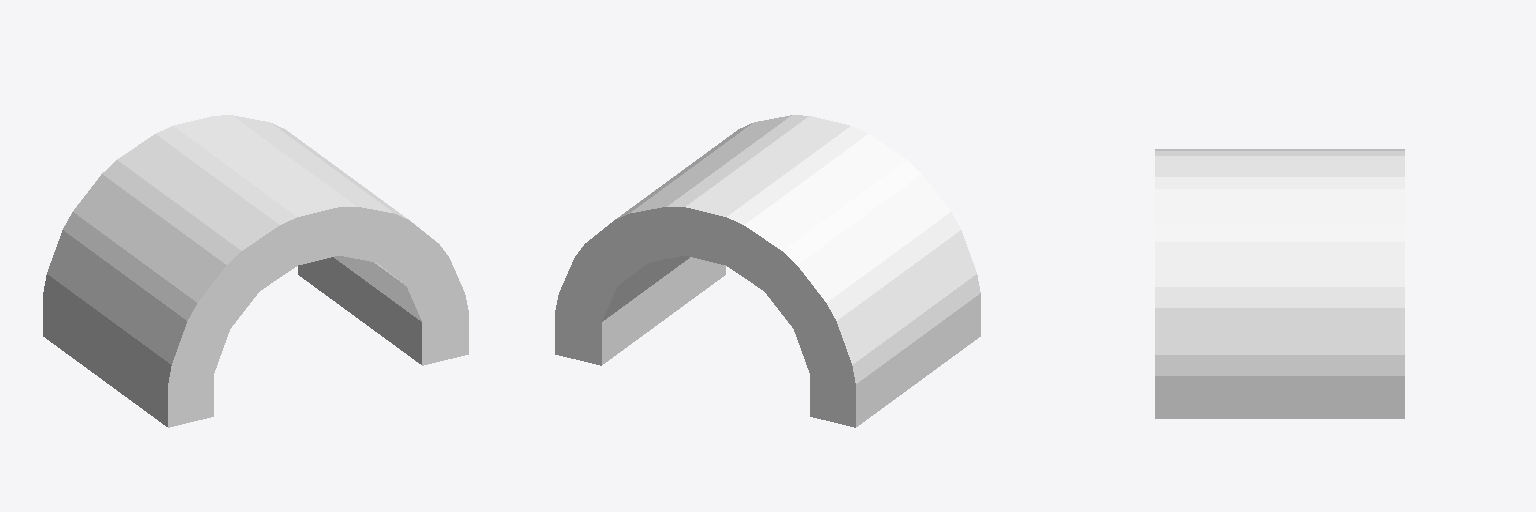
The model's file is smooth_round_arch_1.obj.
3 views of the same model, side by side, from view 1: azimuth 30°, elevation 25°; view 2: azimuth 150°, elevation 25°; view 3: azimuth 270°, elevation 25° (orthographic).
Parts seen in each view (by area): view 1: cube.002; view 2: cube.002; view 3: cube.002.
Boxes of the visible parts, x1=… form: cube.002: x1=43, y1=115, x2=468, y2=427; cube.002: x1=555, y1=115, x2=980, y2=427; cube.002: x1=1155, y1=149, x2=1404, y2=418.
Size of the model in its own units: 1.42 by 0.8083 by 1.02.